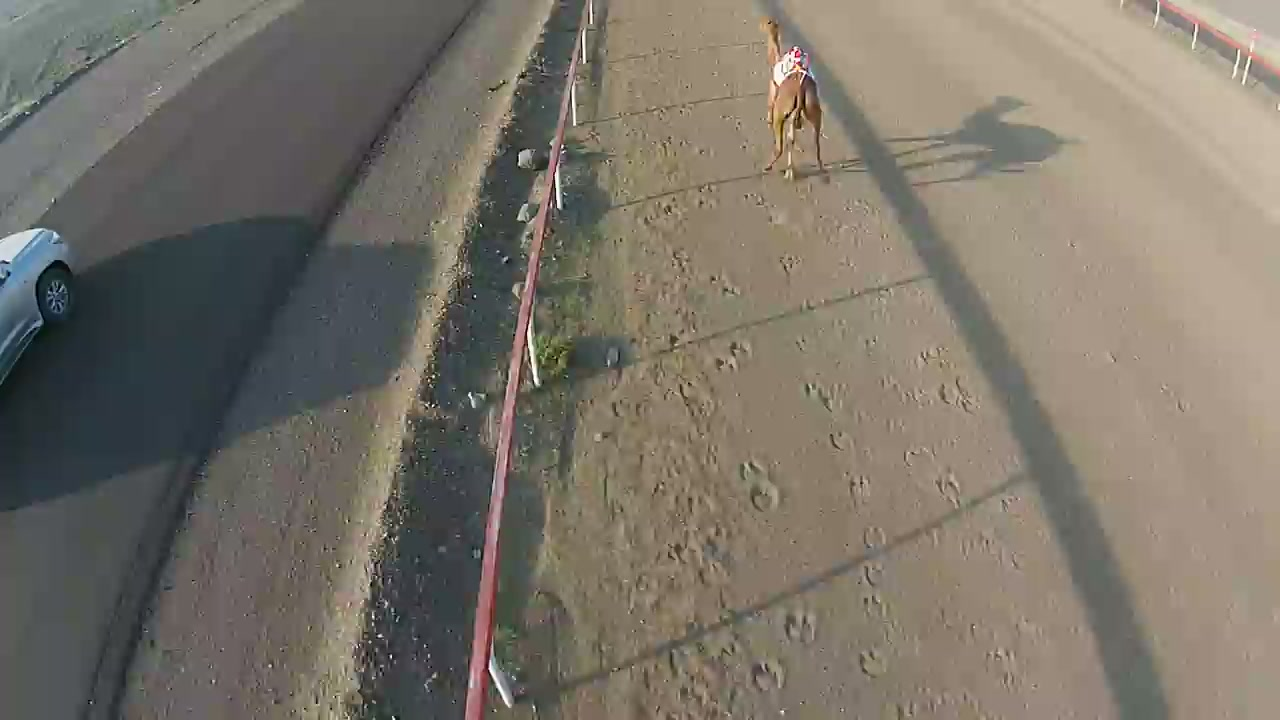animal_foot_print: (739, 153, 919, 646)
